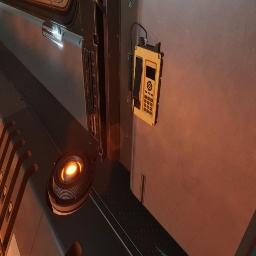EmergencyPhone ,: (128, 22, 164, 127)
